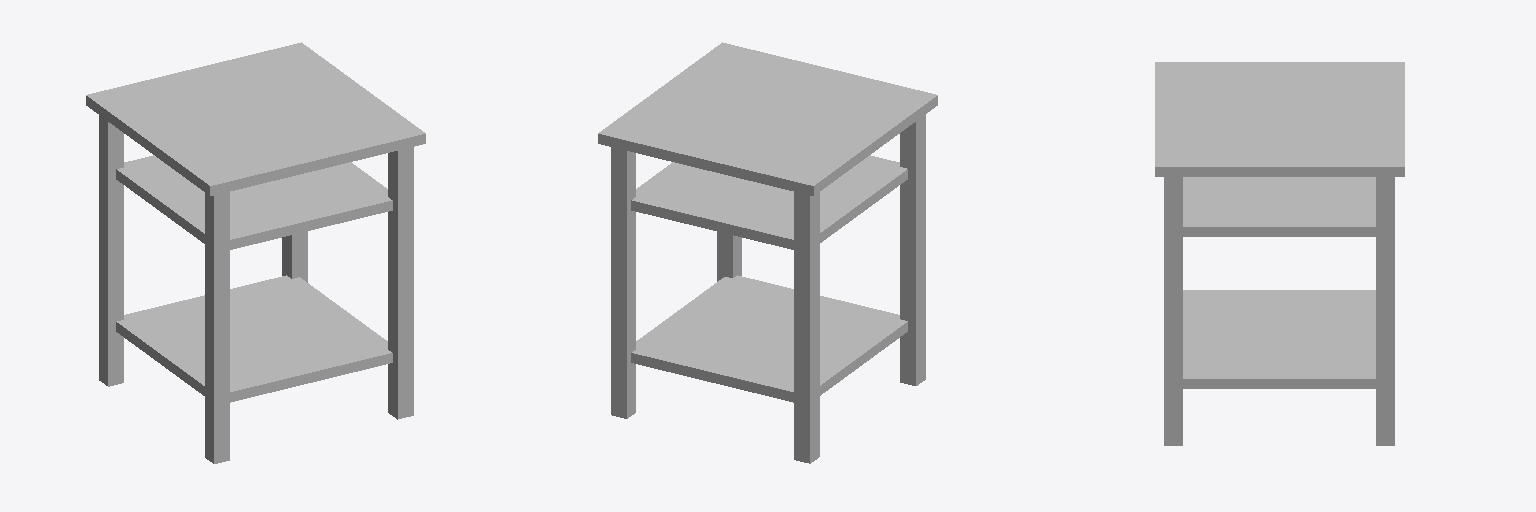
Rendered from bedsideTable.obj.
3 renders of one model, left to right at view 1: azimuth 30°, elevation 25°; view 2: azimuth 150°, elevation 25°; view 3: azimuth 270°, elevation 25°, orthographic.
Visible parts, largest first — view 1: Assise, Assise_1, Assise_2, Pied_2, Pied_1, Pied, Pied_3; view 2: Assise, Assise_1, Assise_2, Pied, Pied_3, Pied_1, Pied_2; view 3: Assise, Assise_1, Assise_2, Pied_2, Pied_3.
Boxes of the visible parts, x1=… form: Assise: x1=86, y1=42, x2=425, y2=195; Assise_1: x1=116, y1=275, x2=392, y2=402; Assise_2: x1=116, y1=155, x2=392, y2=249; Pied_2: x1=388, y1=147, x2=413, y2=419; Pied_1: x1=205, y1=192, x2=229, y2=463; Pied: x1=99, y1=115, x2=123, y2=386; Pied_3: x1=282, y1=231, x2=307, y2=282; Assise: x1=598, y1=42, x2=937, y2=195; Assise_1: x1=631, y1=275, x2=907, y2=402; Assise_2: x1=631, y1=155, x2=907, y2=249; Pied: x1=794, y1=192, x2=819, y2=463; Pied_3: x1=611, y1=147, x2=635, y2=418; Pied_1: x1=900, y1=114, x2=925, y2=385; Pied_2: x1=717, y1=232, x2=741, y2=281; Assise: x1=1155, y1=62, x2=1404, y2=176; Assise_1: x1=1183, y1=290, x2=1375, y2=388; Assise_2: x1=1183, y1=177, x2=1375, y2=236; Pied_2: x1=1164, y1=177, x2=1182, y2=445; Pied_3: x1=1376, y1=177, x2=1394, y2=445.
Size of the model in its own units: 4 by 5.02 by 4.